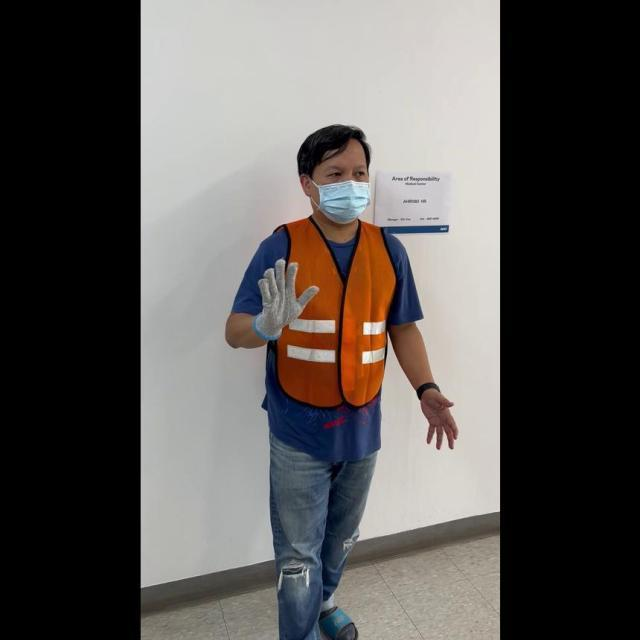bare_hand: (415, 385, 459, 452)
gloved_hand: (251, 252, 318, 339)
